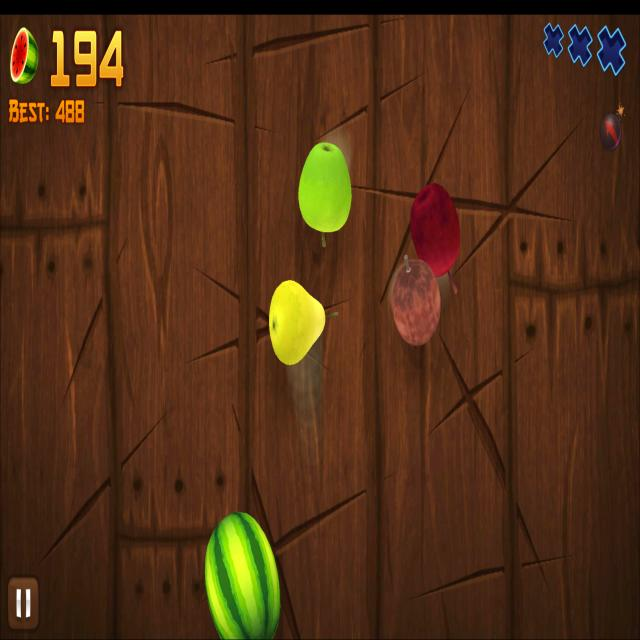fruit: (204, 509, 282, 640), (268, 279, 327, 365), (298, 142, 353, 234), (410, 183, 460, 278), (392, 261, 441, 347)
